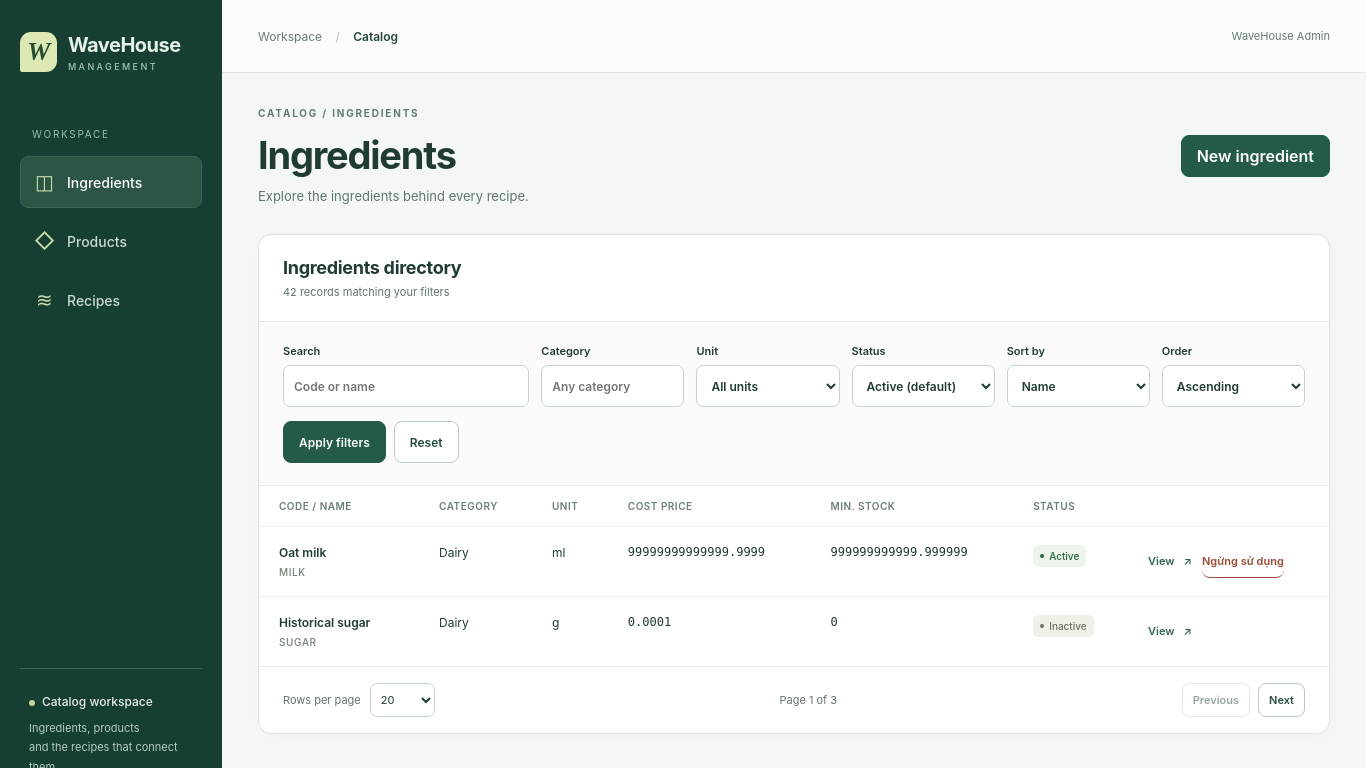
it: filters and pagination › keeps applied filters across pages and clears selection on page/filter/page-size changes
Expected: the table is shown, x1=259 y1=486 x2=1329 y2=666
Select "Inactive" in the dropdown labelled "Status" at x=923, y=386, box x1=852 y1=365 x2=995 y2=407
Click the button "Apply filters" at x=334, y=442, box x1=283 y1=421 x2=386 y2=463
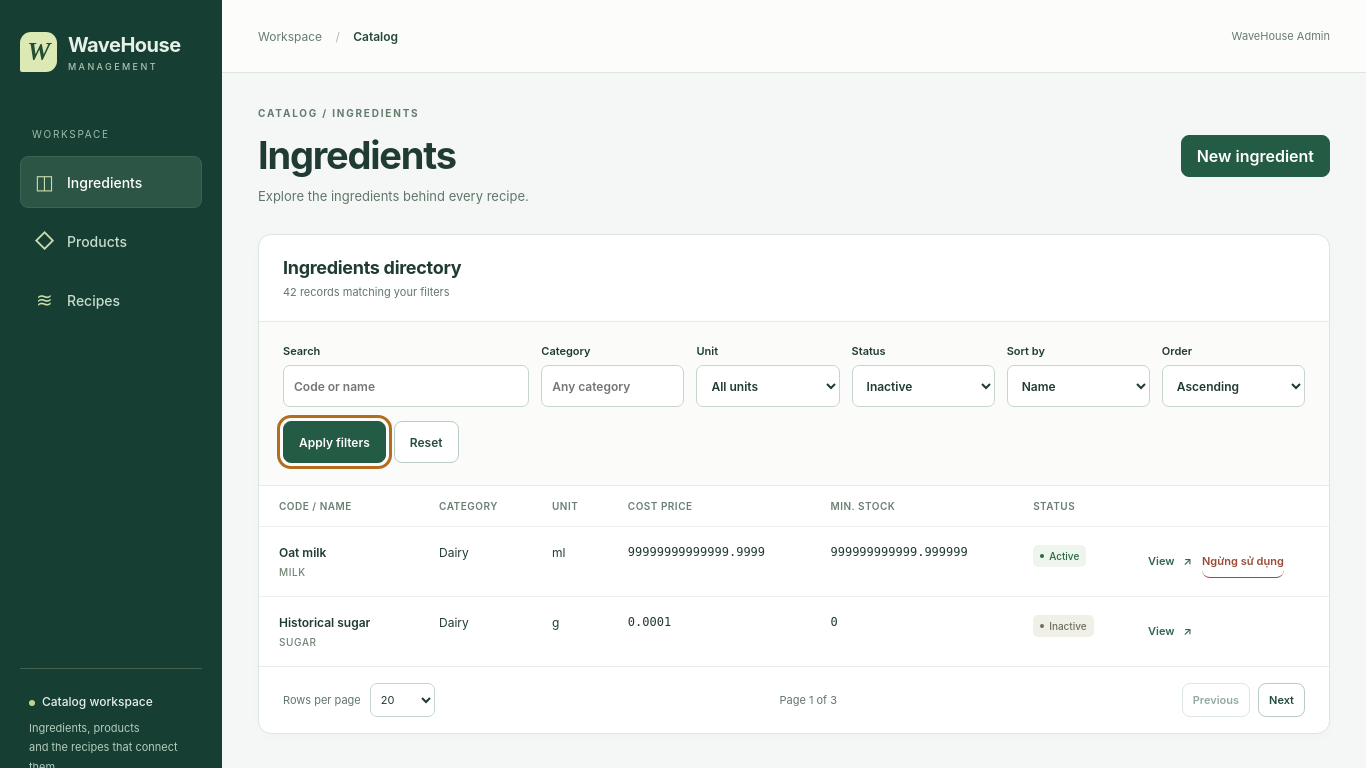
Expected: the table is shown, x1=259 y1=486 x2=1329 y2=666
Click the button with aria-label "View Oat milk" at x=1170, y=561, box x1=1148 y1=545 x2=1192 y2=577
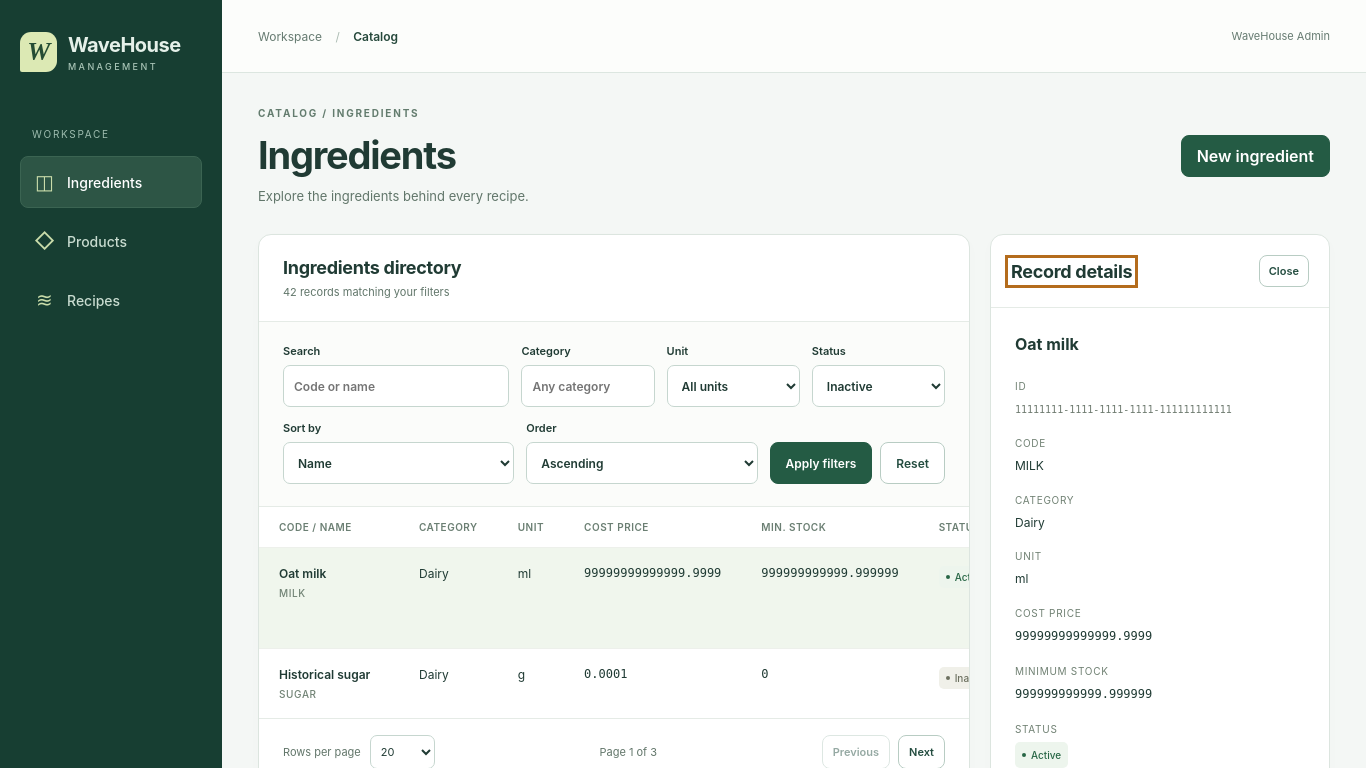
Click the button "Next" at x=922, y=752, box x1=898 y1=735 x2=945 y2=767
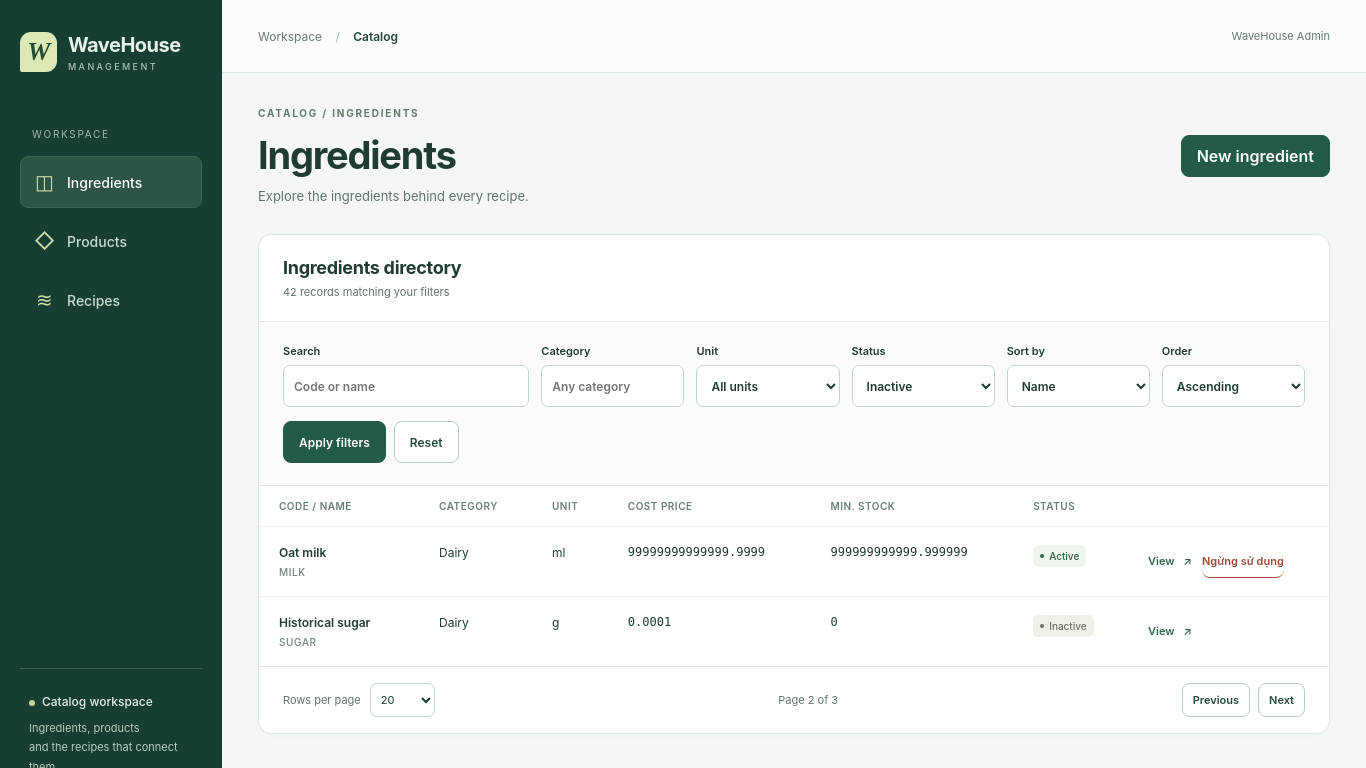
Expected: the text "Page 2 of 3" is shown, x1=778 y1=693 x2=838 y2=707
Expected: the heading "Record details" is gone
Select "10" in the dropdown labelled "Rows per page" at x=402, y=700, box x1=370 y1=683 x2=435 y2=717
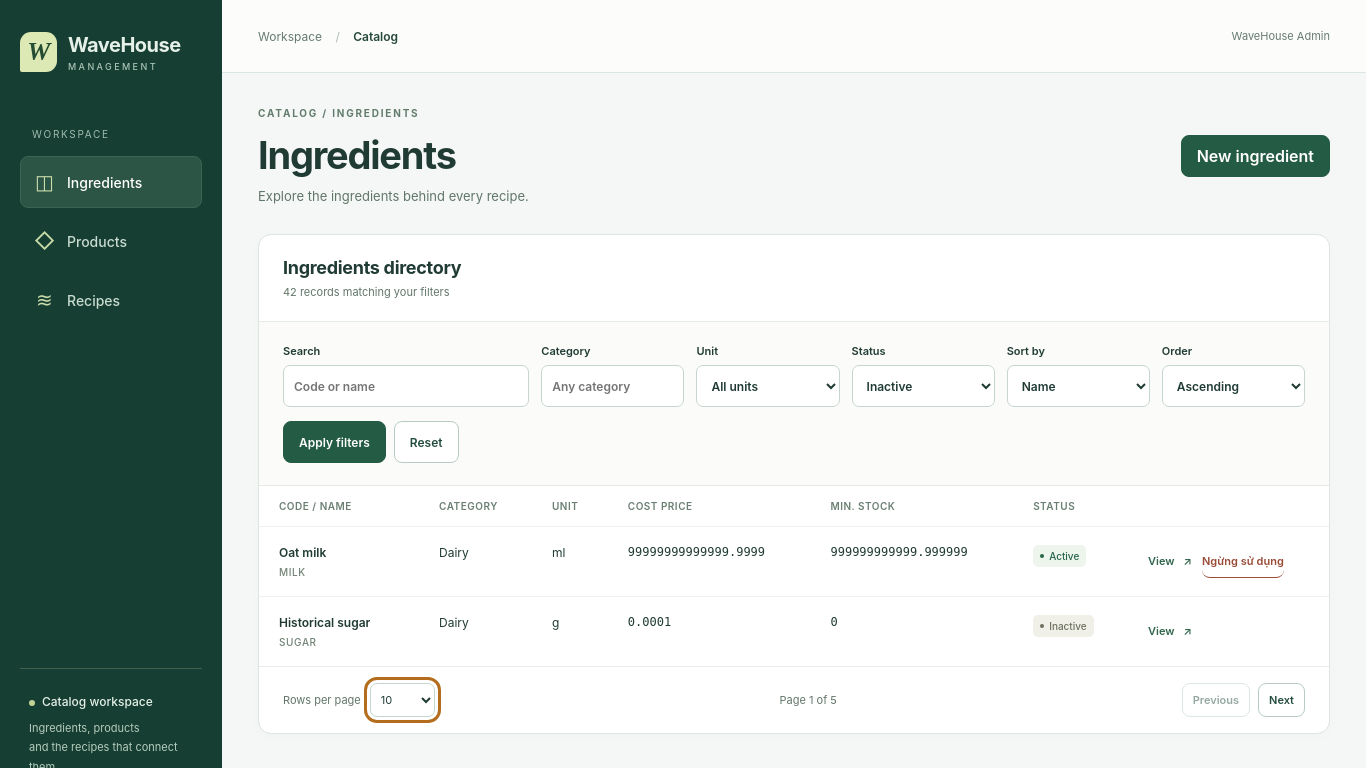
Expected: the text "Page 1 of 5" is shown, x1=780 y1=693 x2=837 y2=707
Click the button "Next" at x=1282, y=700, box x1=1258 y1=683 x2=1305 y2=717
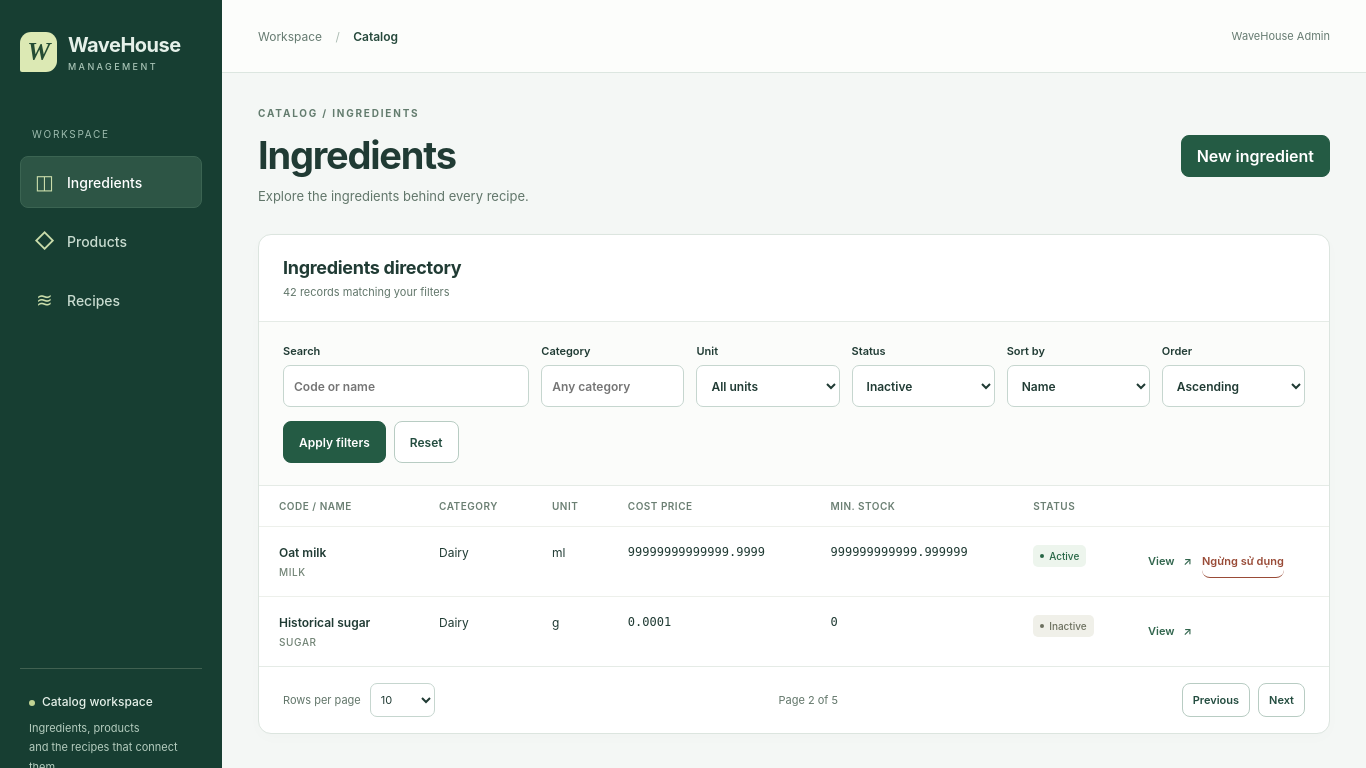
Expected: the text "Page 2 of 5" is shown, x1=778 y1=693 x2=838 y2=707
Click the button "Apply filters" at x=334, y=442, box x1=283 y1=421 x2=386 y2=463
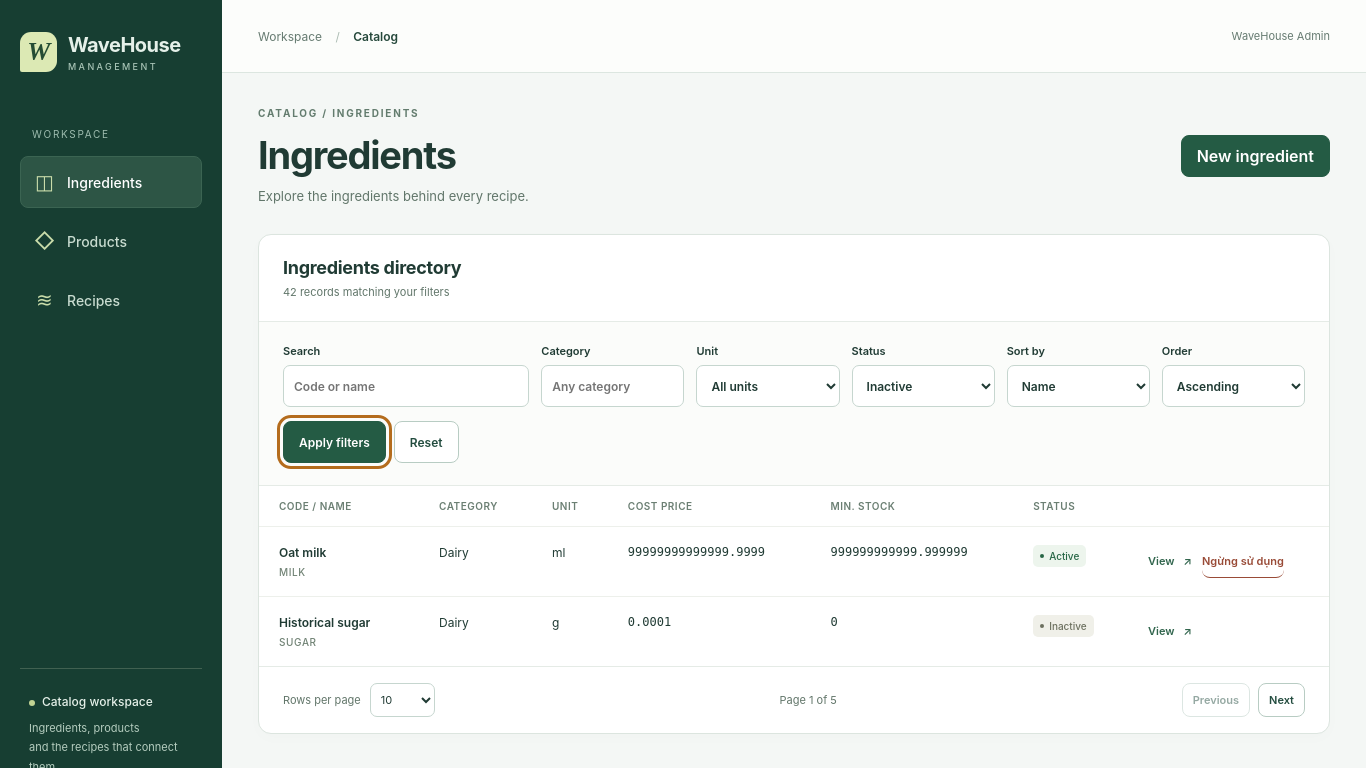
Expected: the text "Page 1 of 5" is shown, x1=780 y1=693 x2=837 y2=707
